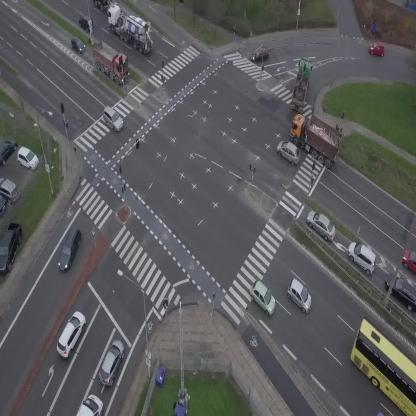car: (51, 308, 90, 359), (95, 337, 129, 388), (342, 237, 384, 277), (244, 278, 283, 317), (302, 205, 342, 243), (54, 226, 85, 272), (281, 277, 319, 314), (273, 137, 305, 166), (98, 104, 127, 133), (66, 34, 87, 57), (76, 14, 97, 34), (402, 251, 416, 273), (250, 46, 270, 61), (370, 41, 385, 56)
lorry: (281, 107, 351, 170), (96, 2, 162, 56), (84, 36, 138, 87), (289, 58, 314, 112), (76, 394, 103, 416), (92, 0, 116, 11)
